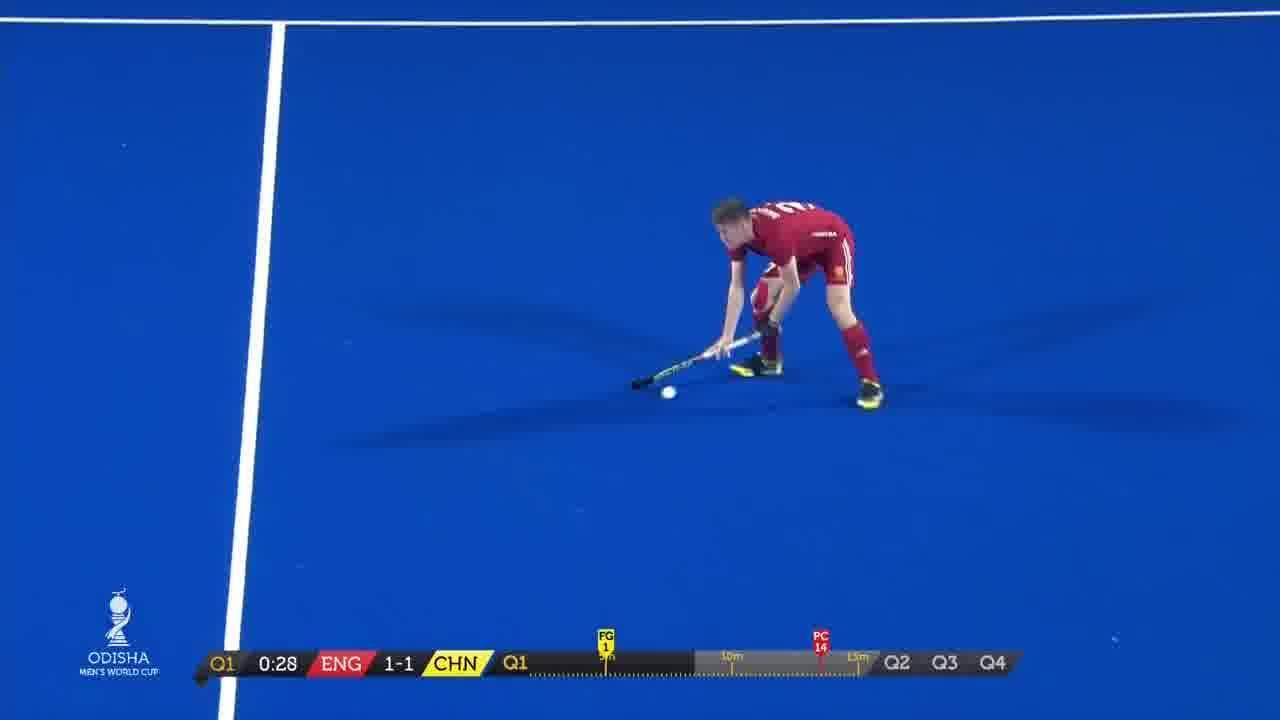ball: (656, 380, 694, 406)
